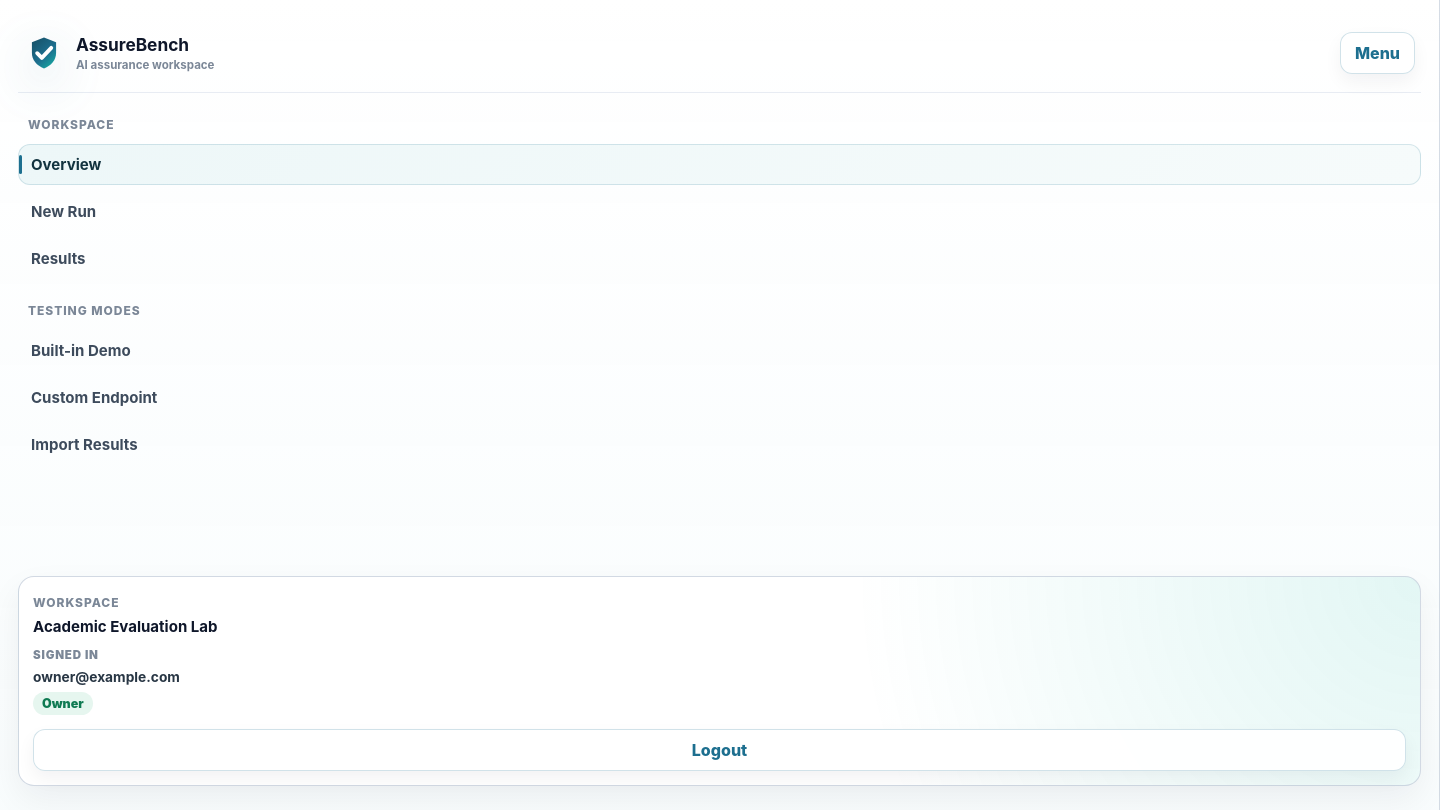
Test: dashboard pages › mobile sidebar menu toggles and closes after navigation
The image size is (1440, 810).
Click the button "Menu" at (1378, 53), box [1340,32,1415,74]
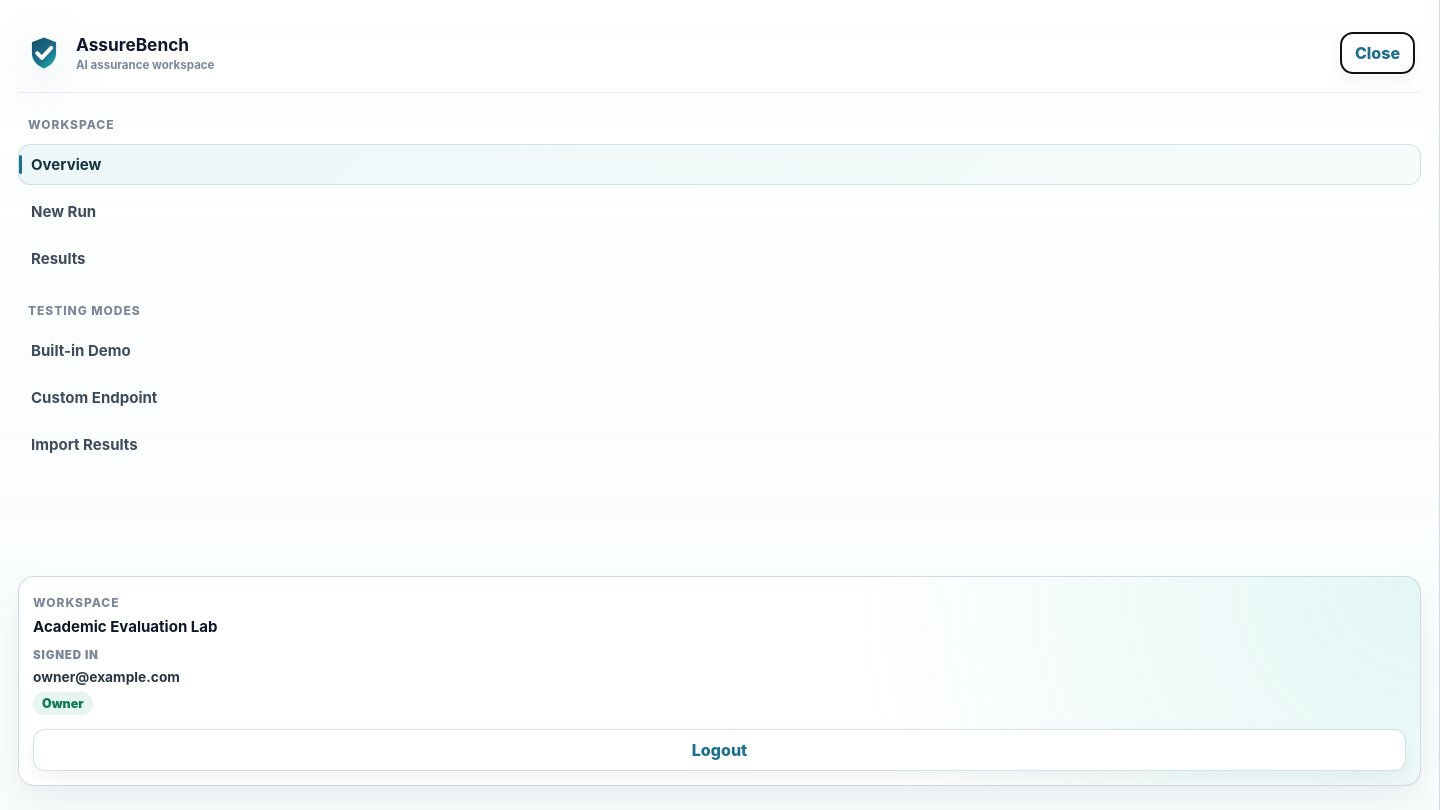
Result: the button "Close" is expanded at [1340,32,1415,74]
Click the link "Results" at (58, 258), box [31,249,86,268]
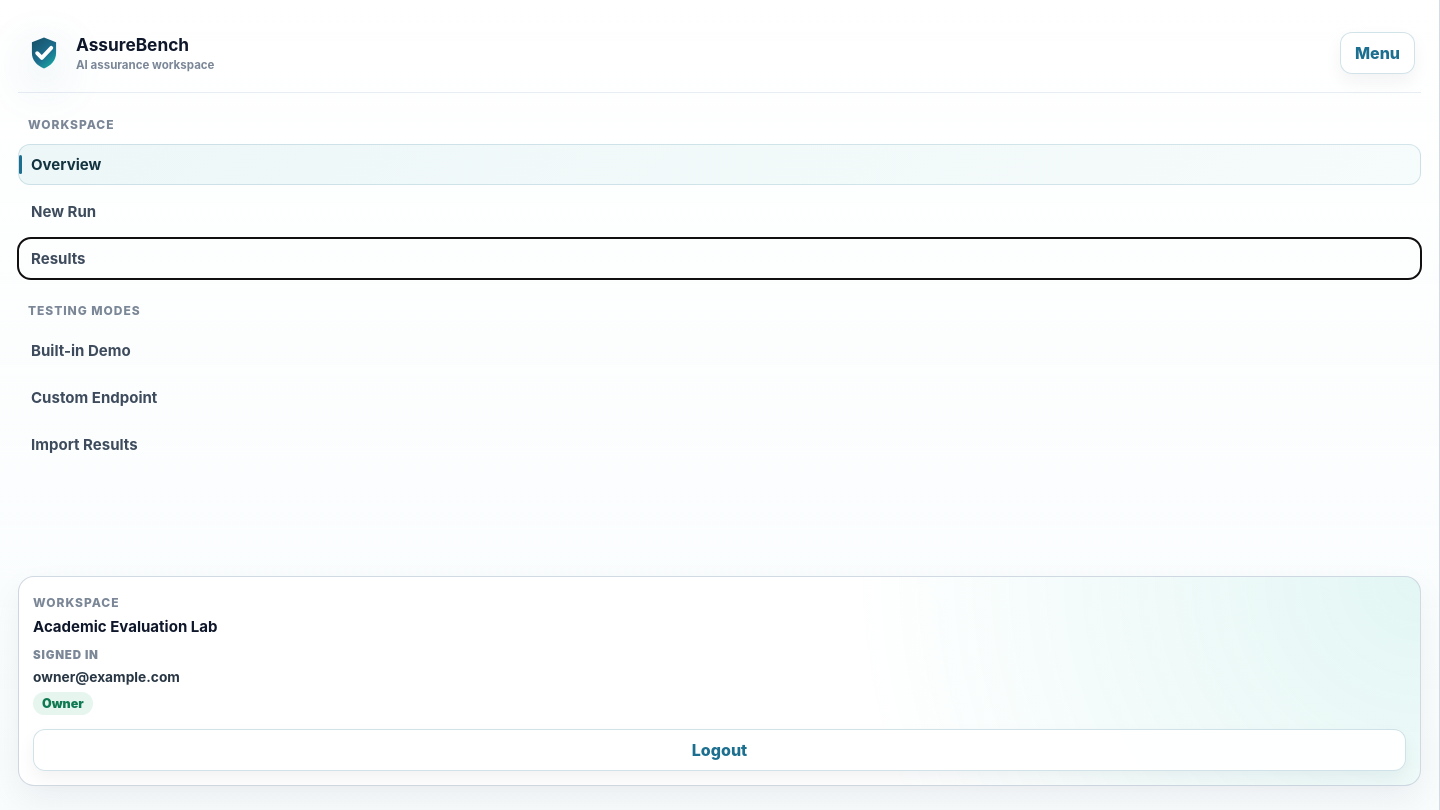
Result: the button "Menu" is collapsed at [1340,32,1415,74]
